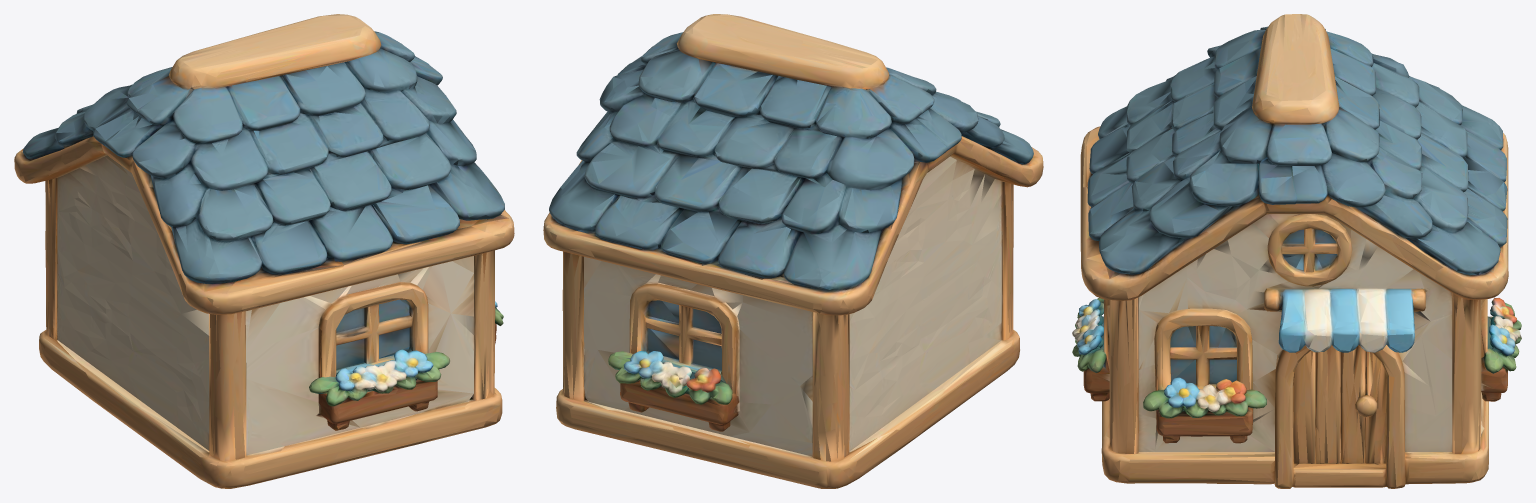
3 renders of one model, left to right at view 1: azimuth 30°, elevation 25°; view 2: azimuth 150°, elevation 25°; view 3: azimuth 270°, elevation 25°, orthographic. The views are drawn at different scales.
Parts seen in each view (by area): view 1: F13c-house-blue; view 2: F13c-house-blue; view 3: F13c-house-blue.
Part boxes in pixels (x1,y1,x2,y2): F13c-house-blue: [14, 14, 514, 488]; F13c-house-blue: [543, 14, 1043, 488]; F13c-house-blue: [1072, 14, 1521, 488].
Bounding box in the file's own units: 3.96 × 3.8 × 4.32.
1 material, 1 textured.
